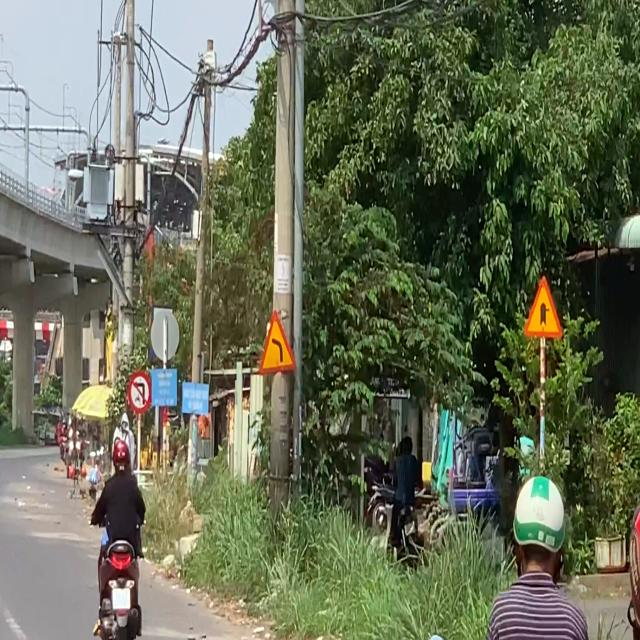Cam re trai: (127, 368, 152, 416)
Giao voi duong khong uu tien: (522, 271, 564, 339)
Nguy hiem: (258, 308, 298, 379)
